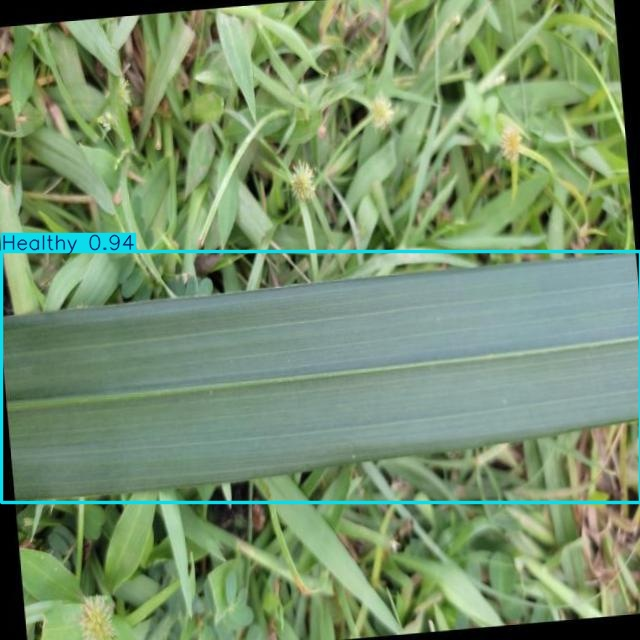Healthy: (2, 251, 640, 503)
